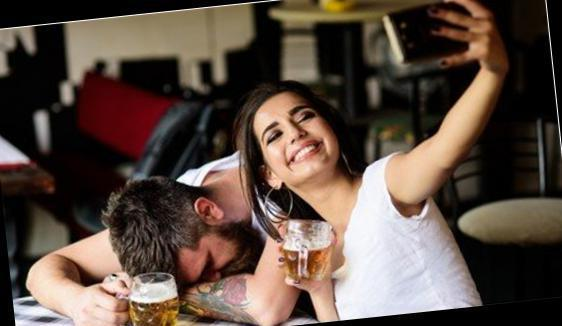Drunk: (257, 99, 335, 178)
